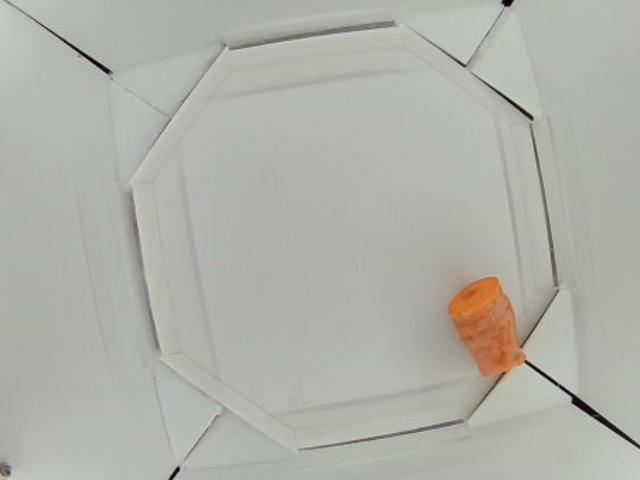Carrot: (450, 276, 528, 376)
